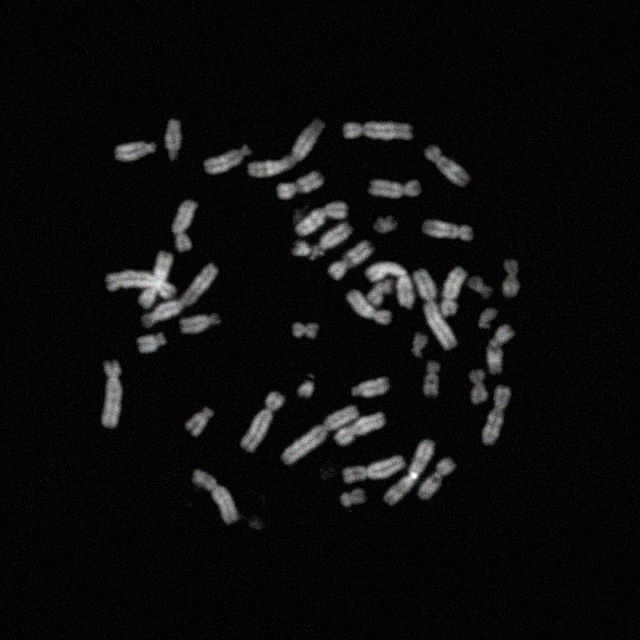chromosome: (141, 263, 219, 327), (280, 407, 360, 467), (248, 119, 326, 177), (412, 268, 456, 349), (384, 438, 436, 506), (238, 391, 286, 451), (192, 470, 238, 524), (366, 262, 416, 310), (288, 222, 350, 258), (138, 248, 172, 308), (422, 144, 468, 188), (482, 386, 514, 448), (106, 272, 174, 300), (342, 454, 404, 484), (336, 410, 384, 446), (296, 202, 348, 234), (348, 289, 394, 325), (100, 363, 124, 429), (342, 121, 412, 143), (202, 143, 250, 175), (170, 198, 198, 252), (330, 242, 372, 278), (486, 322, 514, 376), (419, 458, 455, 500), (422, 218, 474, 242), (278, 172, 322, 200), (440, 266, 464, 316), (368, 178, 419, 198), (352, 377, 391, 401), (181, 313, 221, 335), (116, 140, 156, 162), (186, 404, 212, 436), (368, 278, 394, 306), (502, 258, 520, 298), (422, 362, 442, 398), (467, 367, 487, 403), (165, 119, 182, 161), (296, 372, 318, 401), (468, 276, 494, 300), (138, 333, 166, 355), (293, 321, 319, 341), (476, 307, 498, 329), (409, 334, 429, 358), (340, 489, 366, 506), (376, 216, 399, 234)
